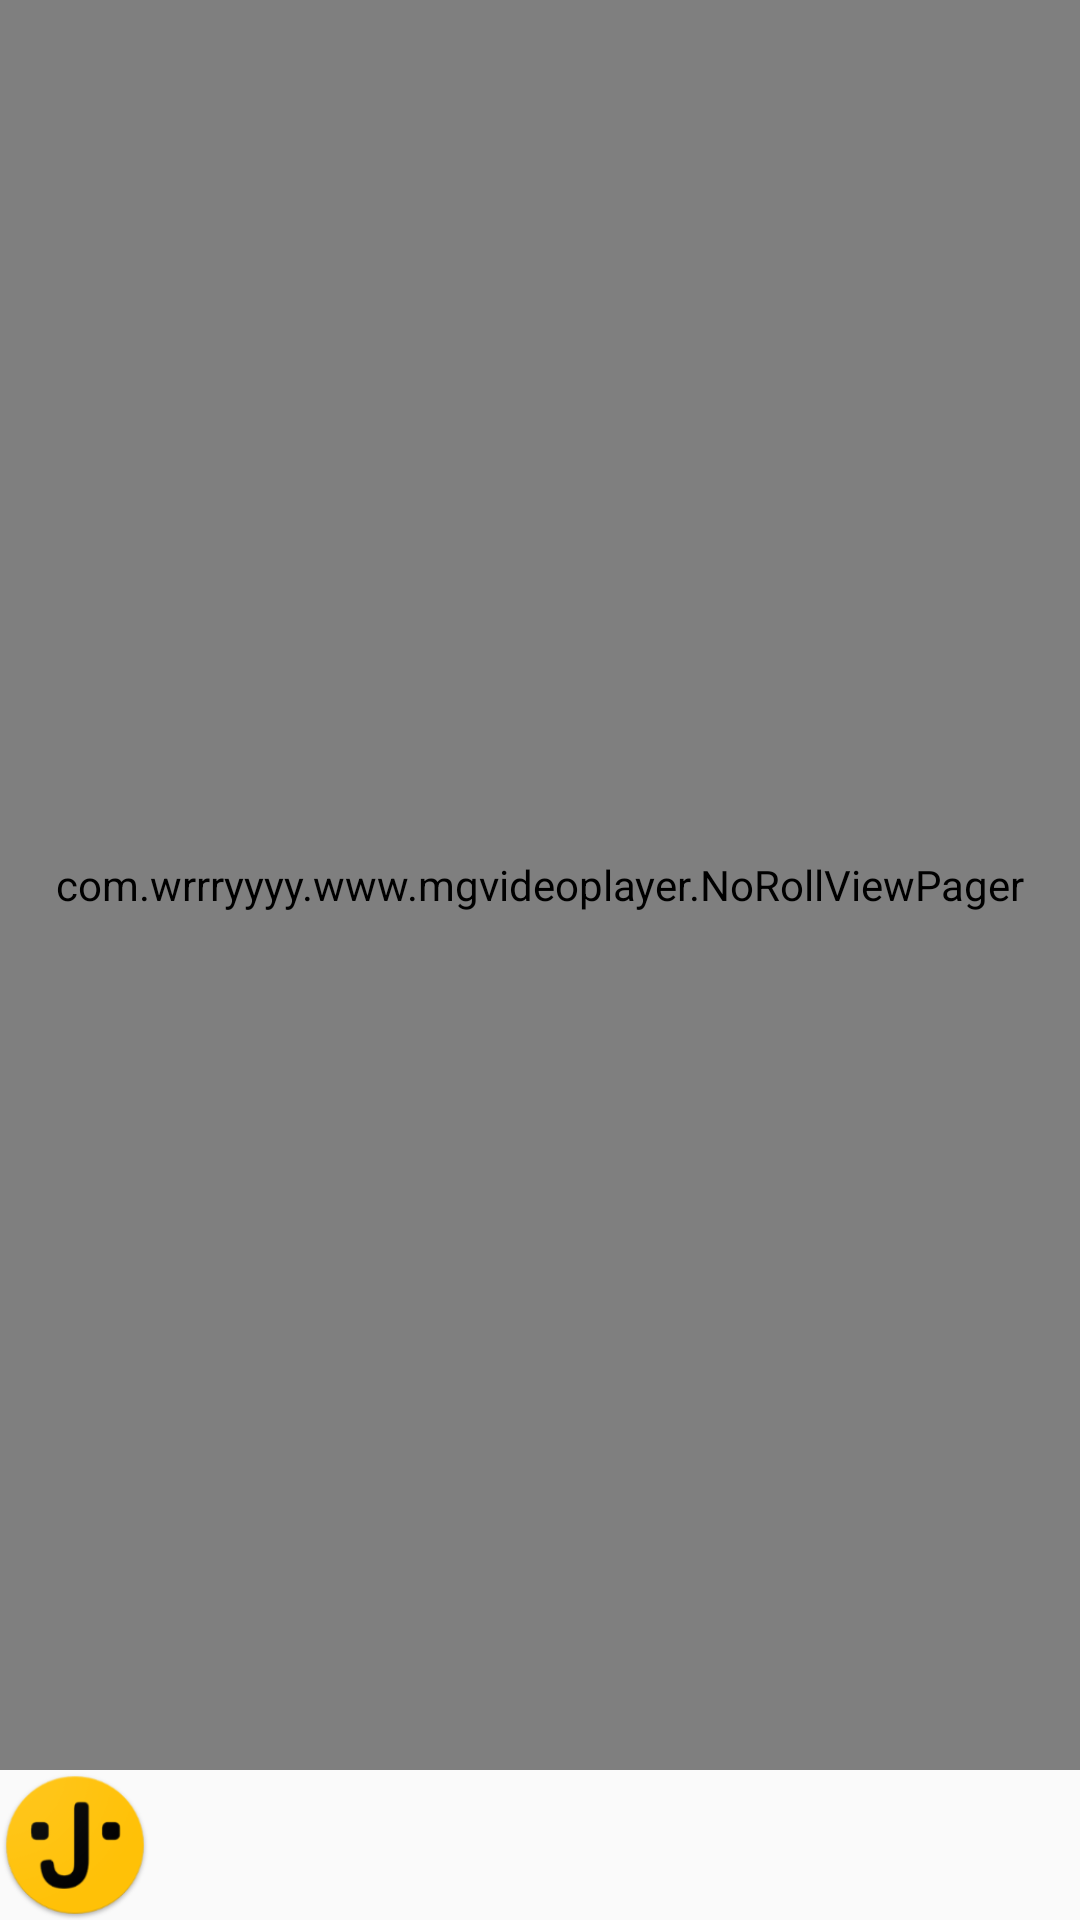

Where to tap for icons on this 1080x1920 app screen, as (x,y):
lanucher cirul: (75,1846)
